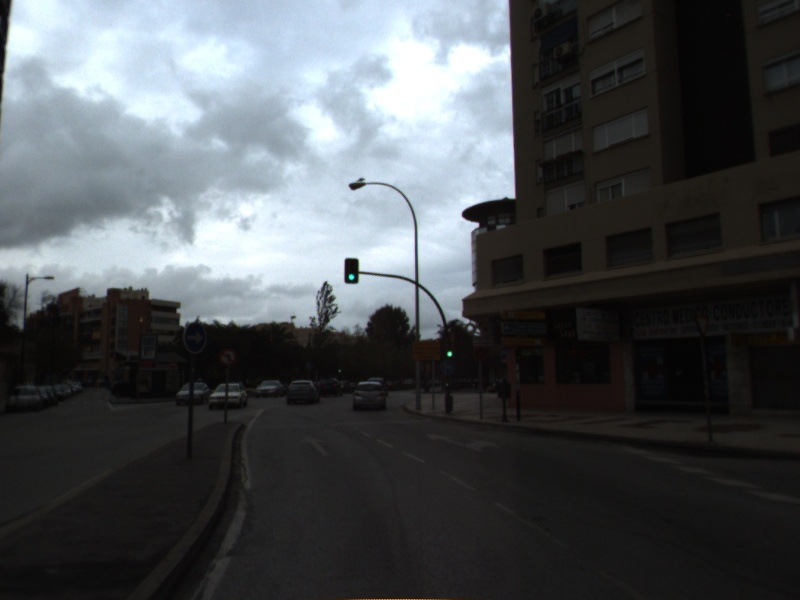STRAIGHT: (297, 433, 333, 458)
STRAIGHT_RIGHT: (424, 431, 503, 454)
